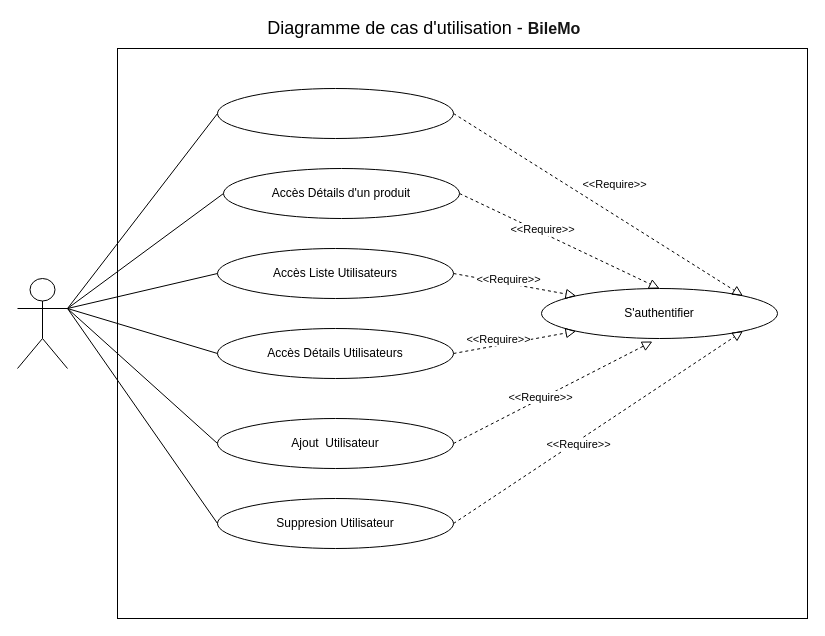
This 825x636 diagram has some shape labels left out. Each missing label, with the centre of its shape:
Accès Liste Produits: (335,113)
Client: (42,323)
